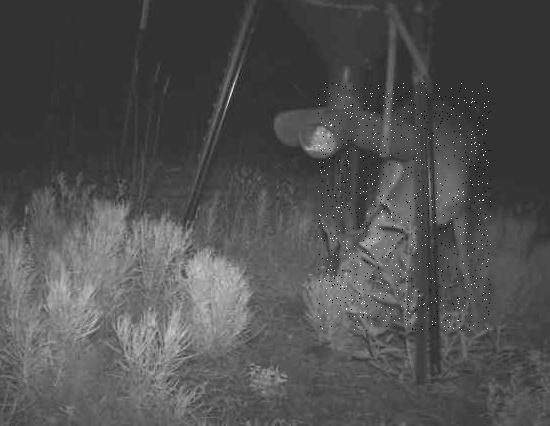Deer: (318, 83, 491, 331)
